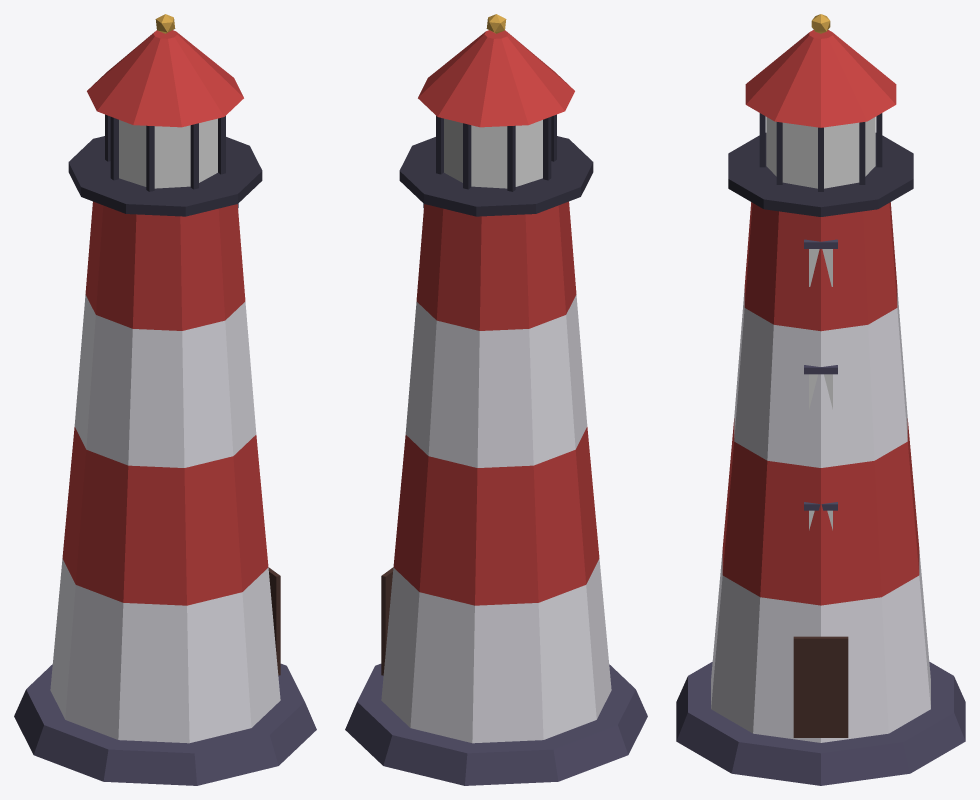
The model's file is Set_Lighthouse.fbx.
3 renders of one model, left to right at view 1: azimuth 30°, elevation 25°; view 2: azimuth 150°, elevation 25°; view 3: azimuth 270°, elevation 25°, orthographic.
Visible parts, largest first — view 1: Set_Lighthouse; view 2: Set_Lighthouse; view 3: Set_Lighthouse.
Part boxes in pixels (x1=…): Set_Lighthouse: x1=14, y1=14, x2=316, y2=785; Set_Lighthouse: x1=345, y1=14, x2=647, y2=785; Set_Lighthouse: x1=676, y1=14, x2=965, y2=785.
Size of what is drawn, in the model's own units: 5 by 12.84 by 4.76.
Materials: 2 (1 with a texture image).
